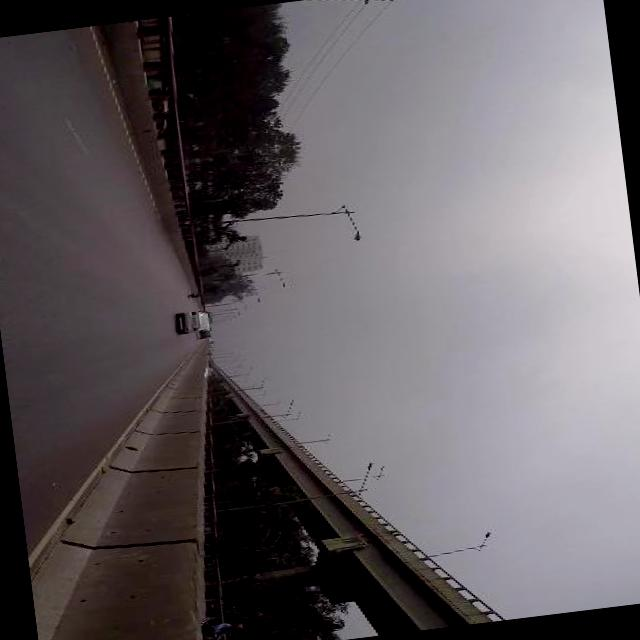car: (176, 308, 212, 334), (198, 328, 211, 338), (206, 366, 214, 376)
motorcycle: (198, 615, 218, 640), (190, 290, 204, 297)
